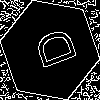D: (25, 25, 78, 75)
